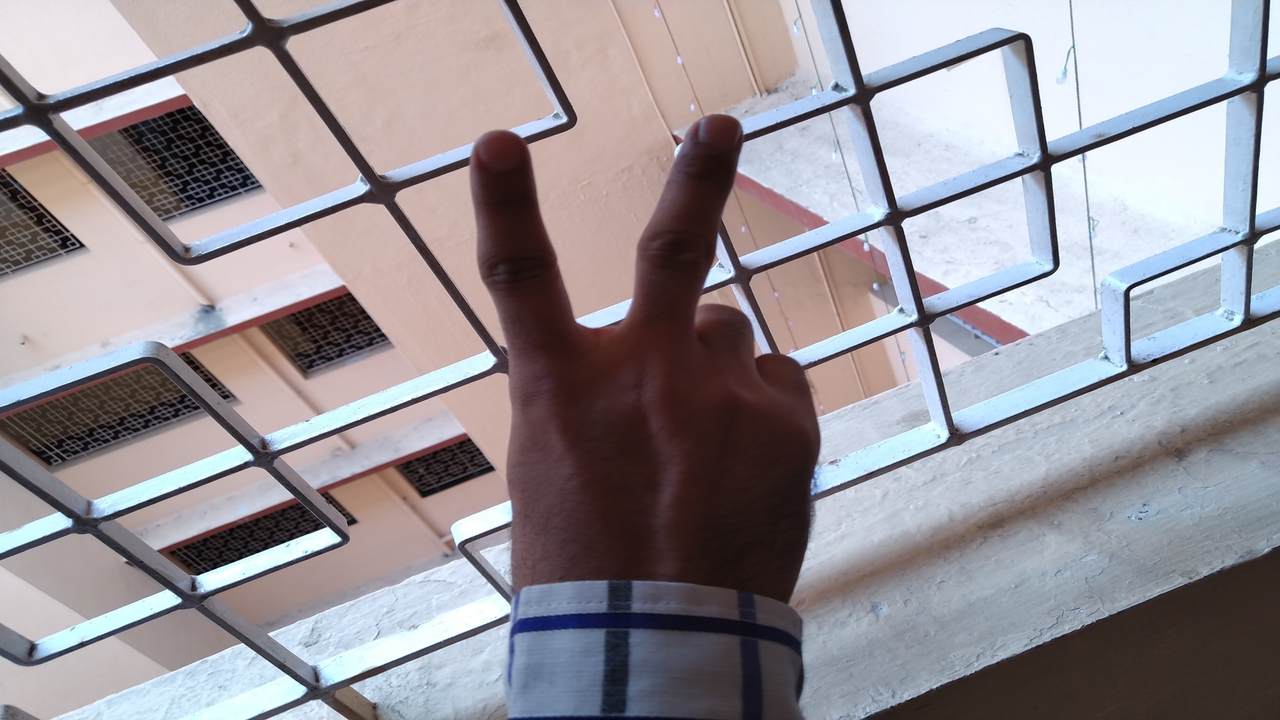fingertip: (460, 120, 530, 188), (678, 108, 748, 170)
